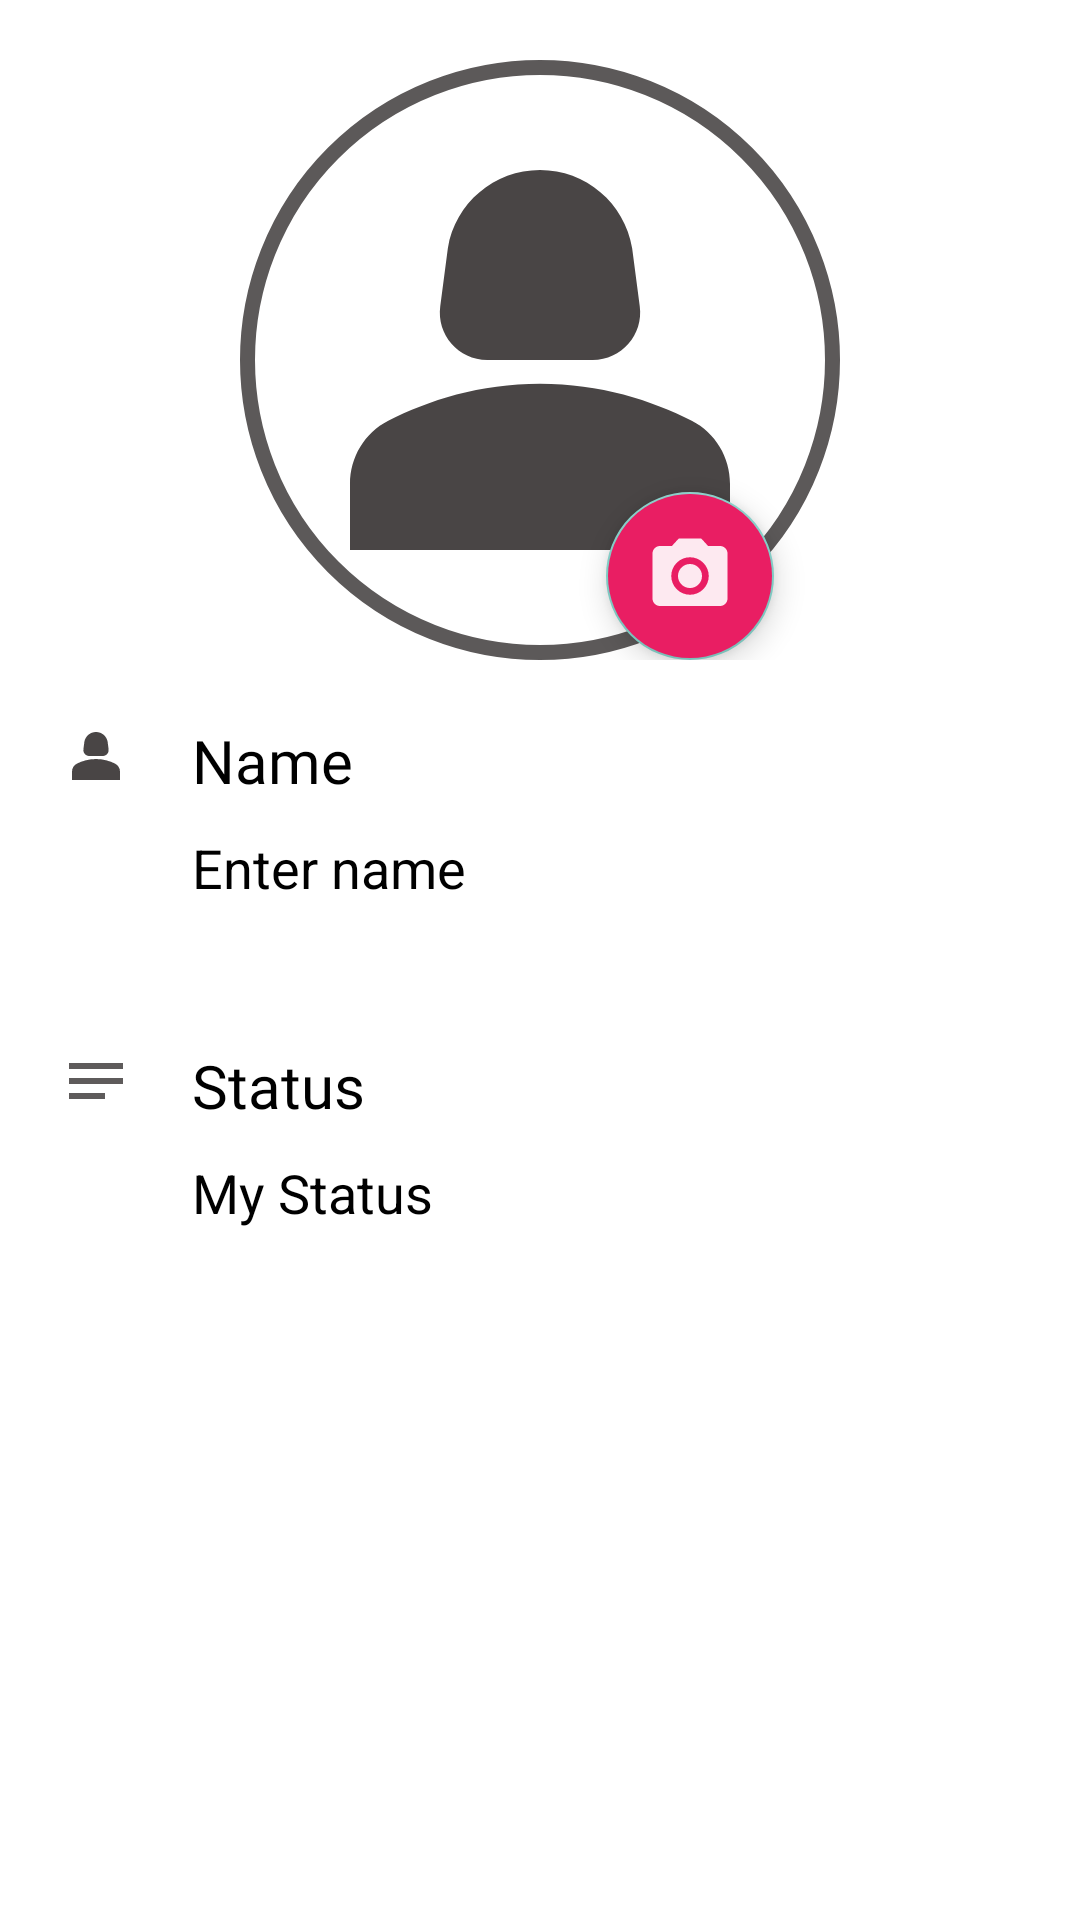

Named icons in this screenshot (1080 x 1920) and their centers, [x,y]:
notes: [96,1081]
